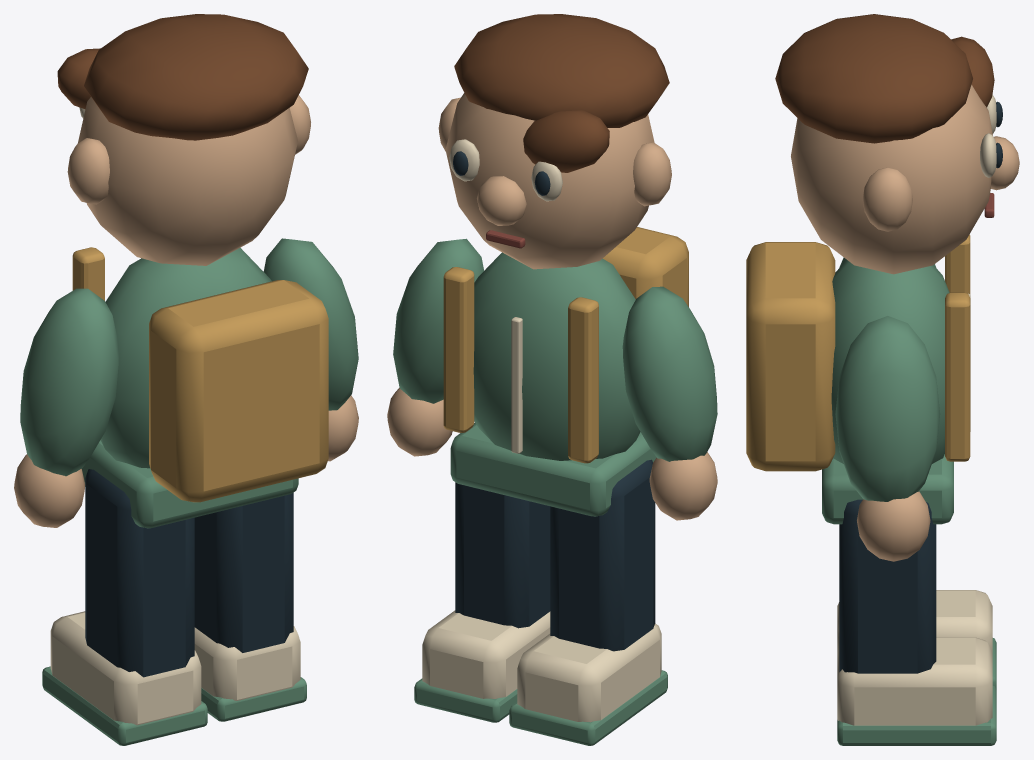
The model's file is person_2.glb.
The picture shows the model from 3 angles, left to right: view 1: azimuth 30°, elevation 25°; view 2: azimuth 150°, elevation 25°; view 3: azimuth 270°, elevation 25°; orthographic projection. The views are drawn at different scales.
Parts seen in each view (by area): view 1: person_2.001; view 2: person_2.001; view 3: person_2.001.
Part boxes in pixels (x1,y1,x2,y2): person_2.001: [14, 14, 358, 745]; person_2.001: [387, 14, 717, 745]; person_2.001: [746, 14, 1019, 745].
Size of the model in its own units: 0.98 by 1.9 by 0.705.
